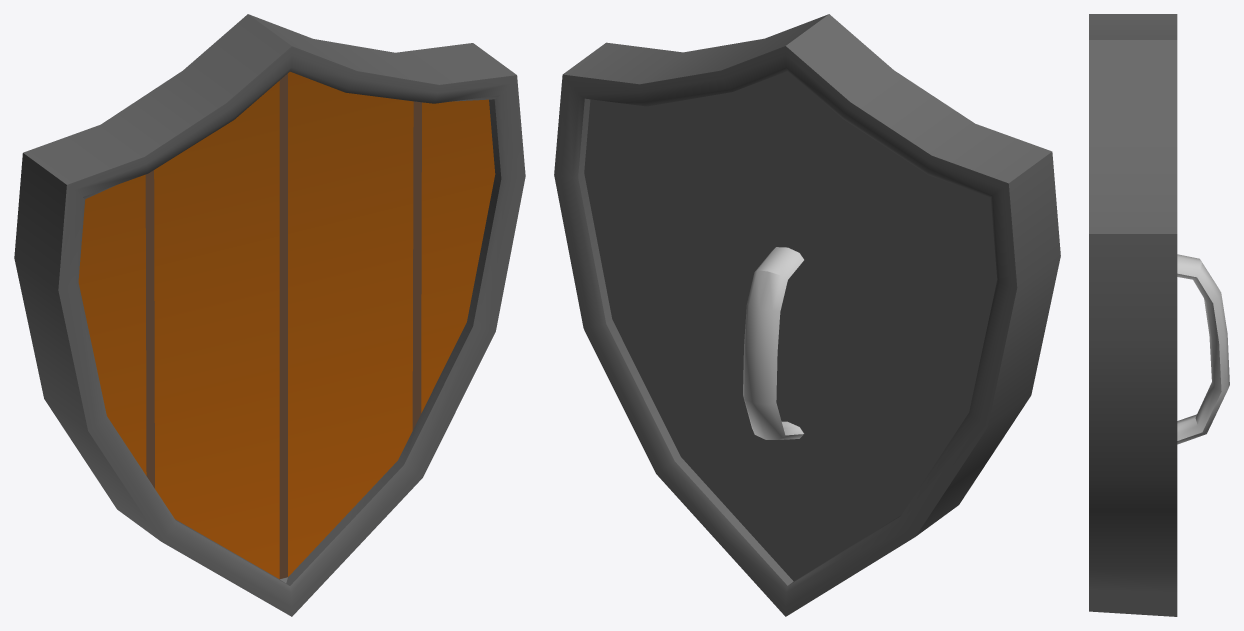
File: Sheild_3.fbx
3 renders of one model, left to right at view 1: azimuth 30°, elevation 25°; view 2: azimuth 150°, elevation 25°; view 3: azimuth 270°, elevation 25°, orthographic.
Visible parts, largest first — view 1: Sheild_3; view 2: Sheild_3; view 3: Sheild_3.
Boxes of the visible parts, bbox=[...] form: Sheild_3: bbox=[14, 14, 525, 616]; Sheild_3: bbox=[554, 14, 1060, 616]; Sheild_3: bbox=[1089, 14, 1229, 616].
Bounding box in the file's own units: 0.295 × 0.3476 × 0.077.
